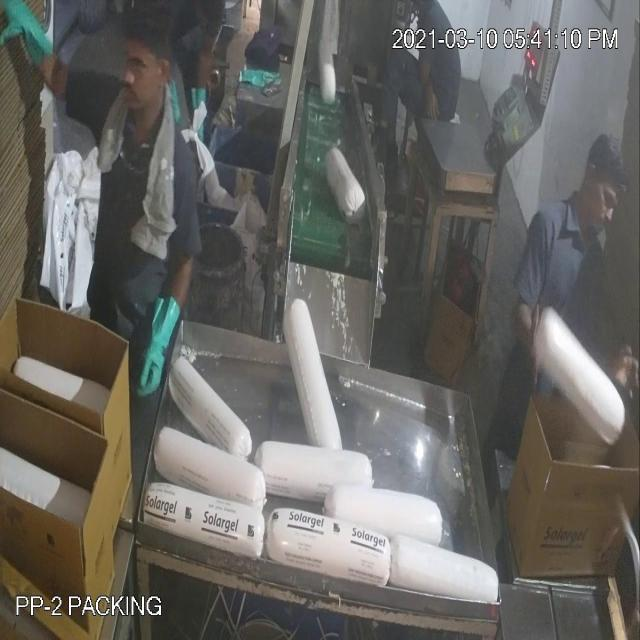gloves: (128, 270, 190, 416), (0, 1, 62, 76)
no-gloves: (503, 282, 557, 391)
